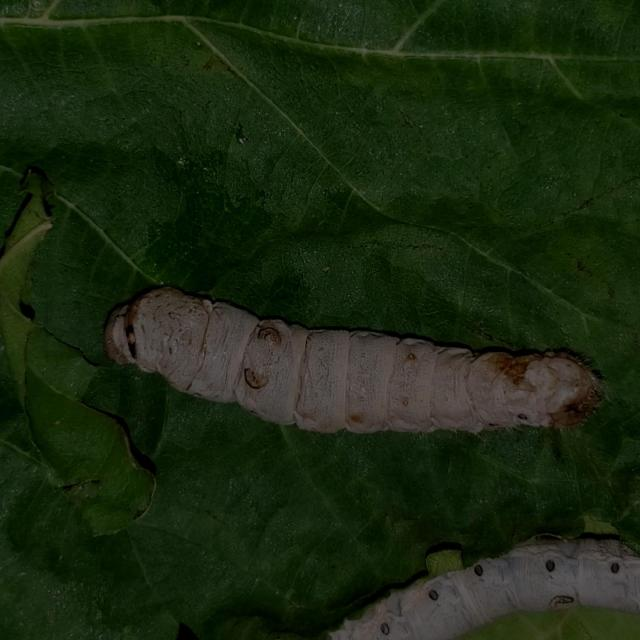Grasserie: (68, 230, 614, 490)
